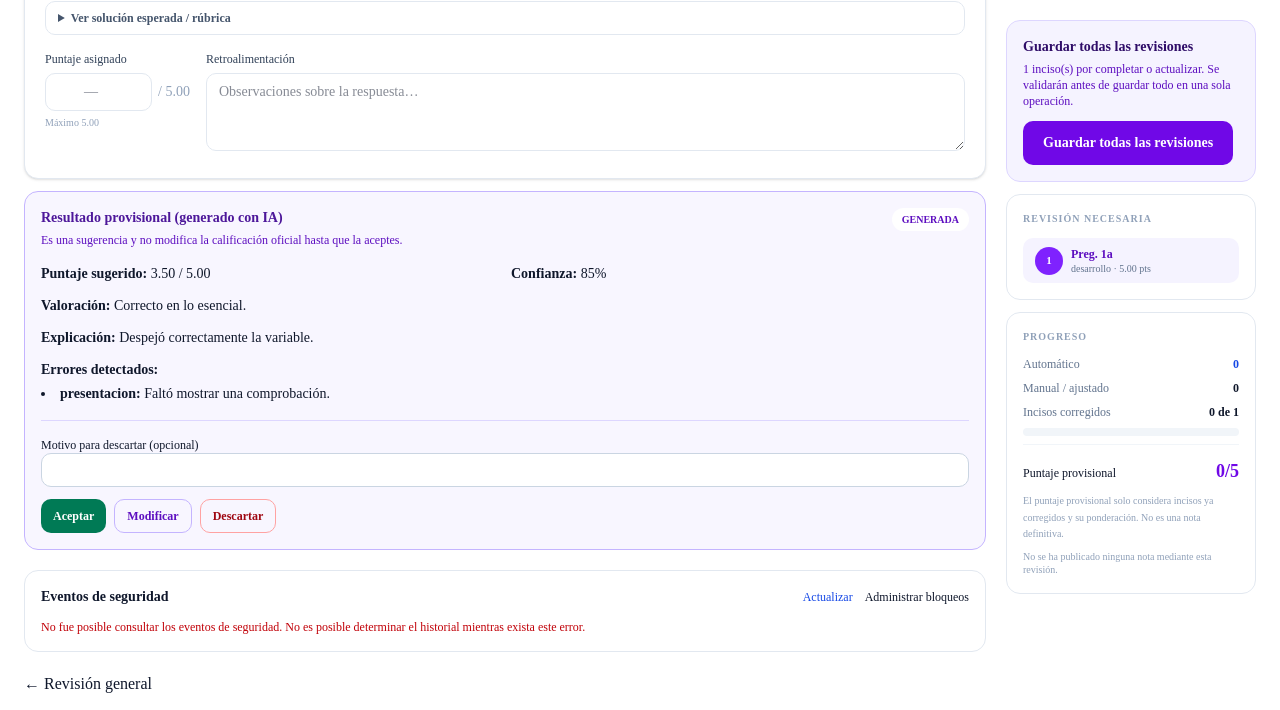
Test: RevisionEstudiante — propuestas de corrección IA › permite modificar todos los campos y aceptar la versión modificada
The width and height of the screenshot is (1280, 710).
Later steps or results of the test are not shown.
(page scrolled)
Click the button "Modificar". click: (153, 516)
box: [114,499,192,533]
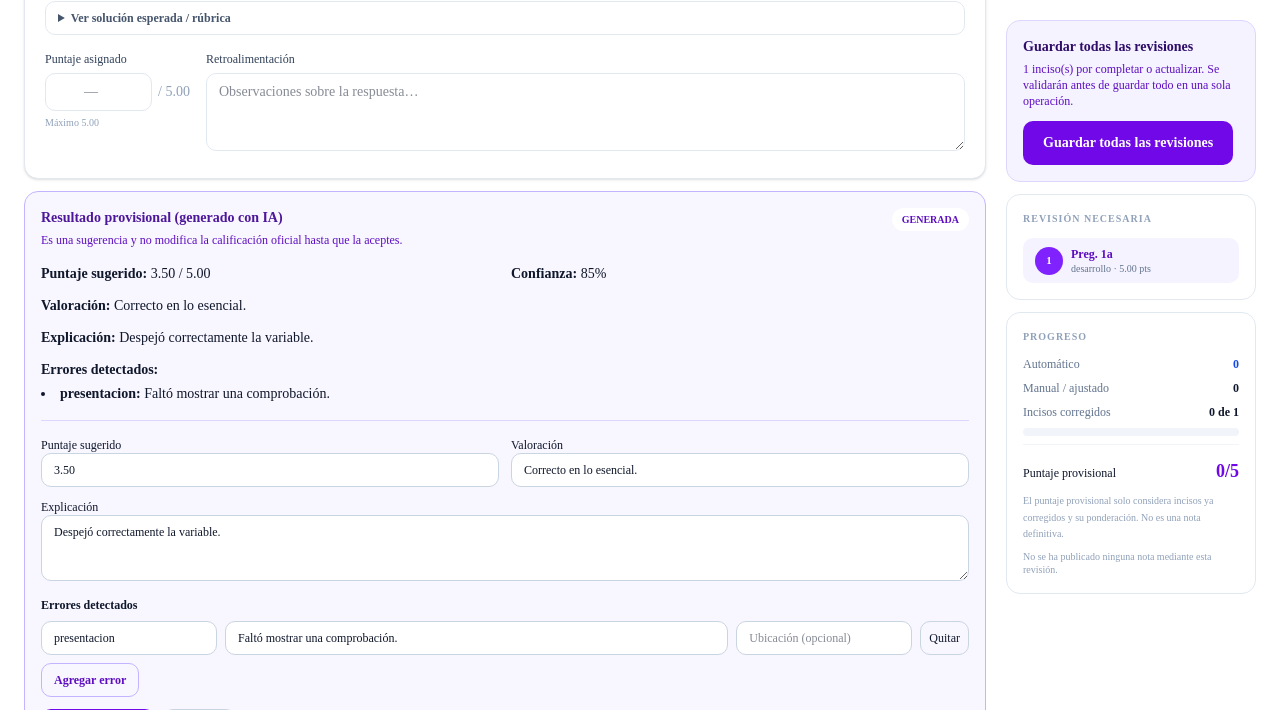
Replace the text in the number field labelled "Puntaje sugerido" with "4.25". click: (270, 470)
box: [41,453,499,487]
Replace the text in the field labelled "Valoración" with "Valoración docente". click: (740, 470)
box: [511,453,969,487]
Replace the text in the text box labelled "Explicación" with "Explicación revisada". click: (505, 548)
box: [41,515,969,581]
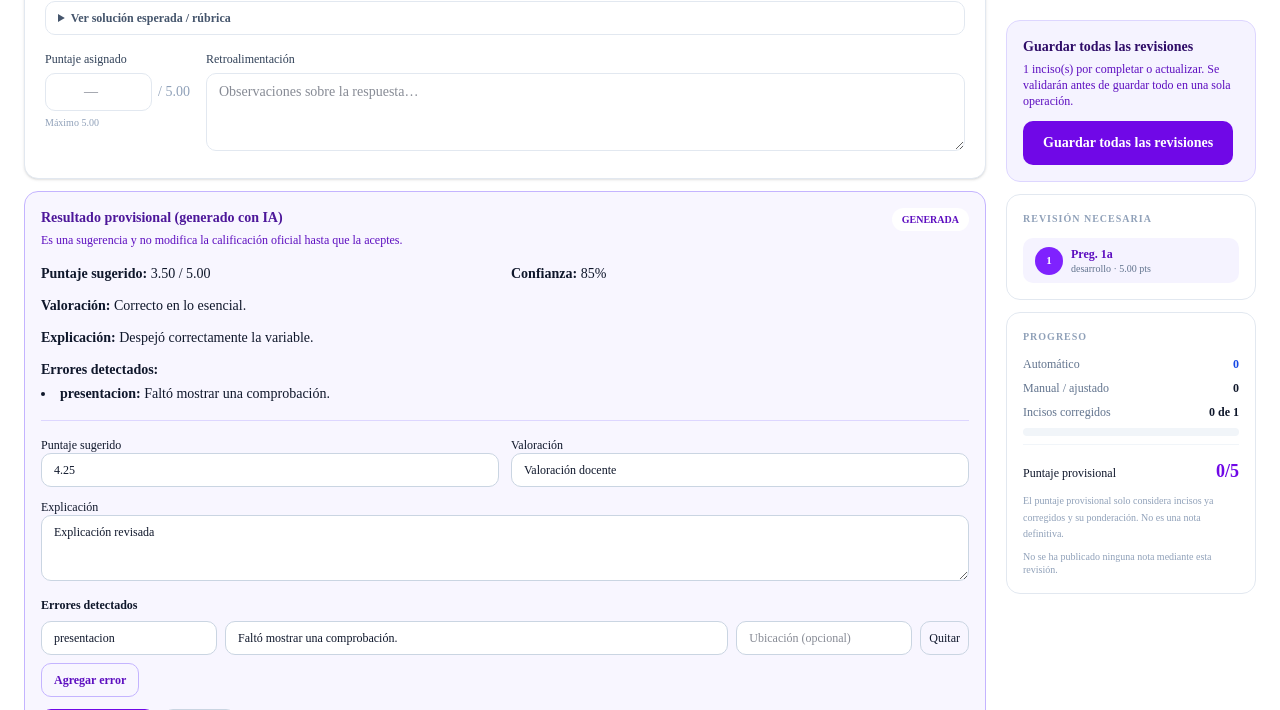
Replace the text in the field named "Tipo del error 1" with "procedimiento". click: (129, 638)
box: [41,621,217,655]
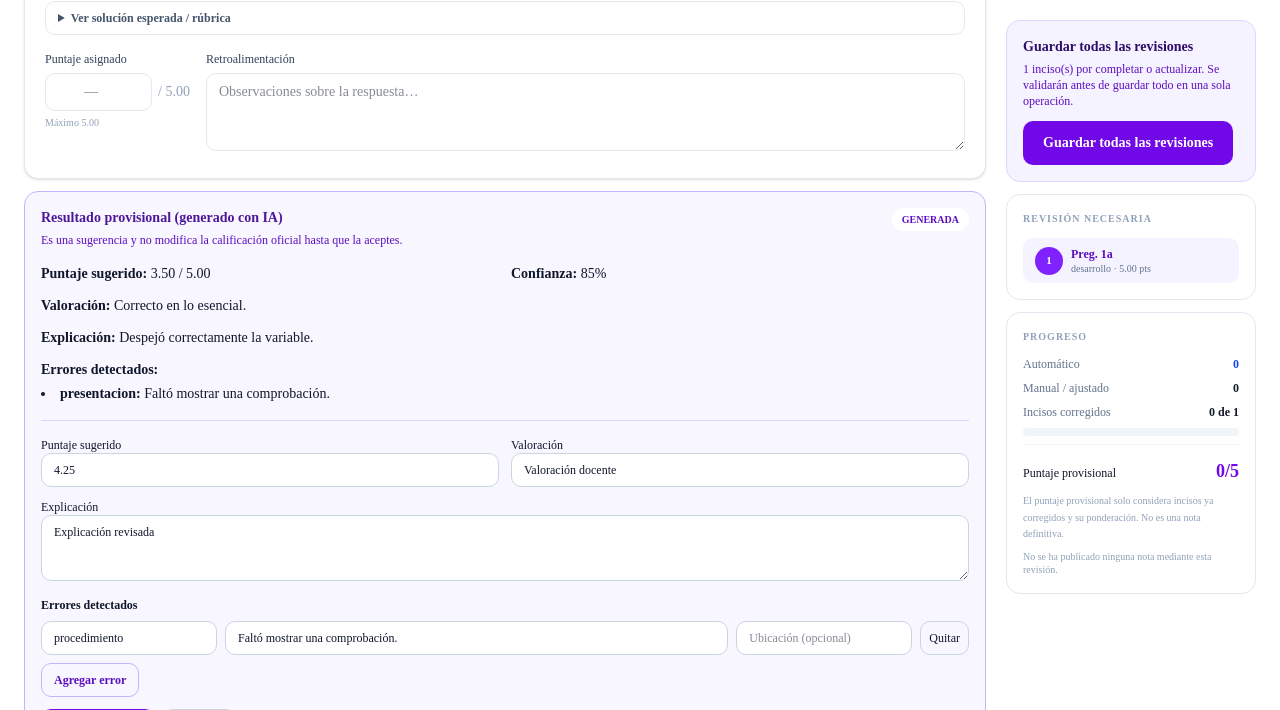
Replace the text in the field named "Descripción del error 1" with "No justificó el último paso.". click: (477, 638)
box: [225,621,728,655]
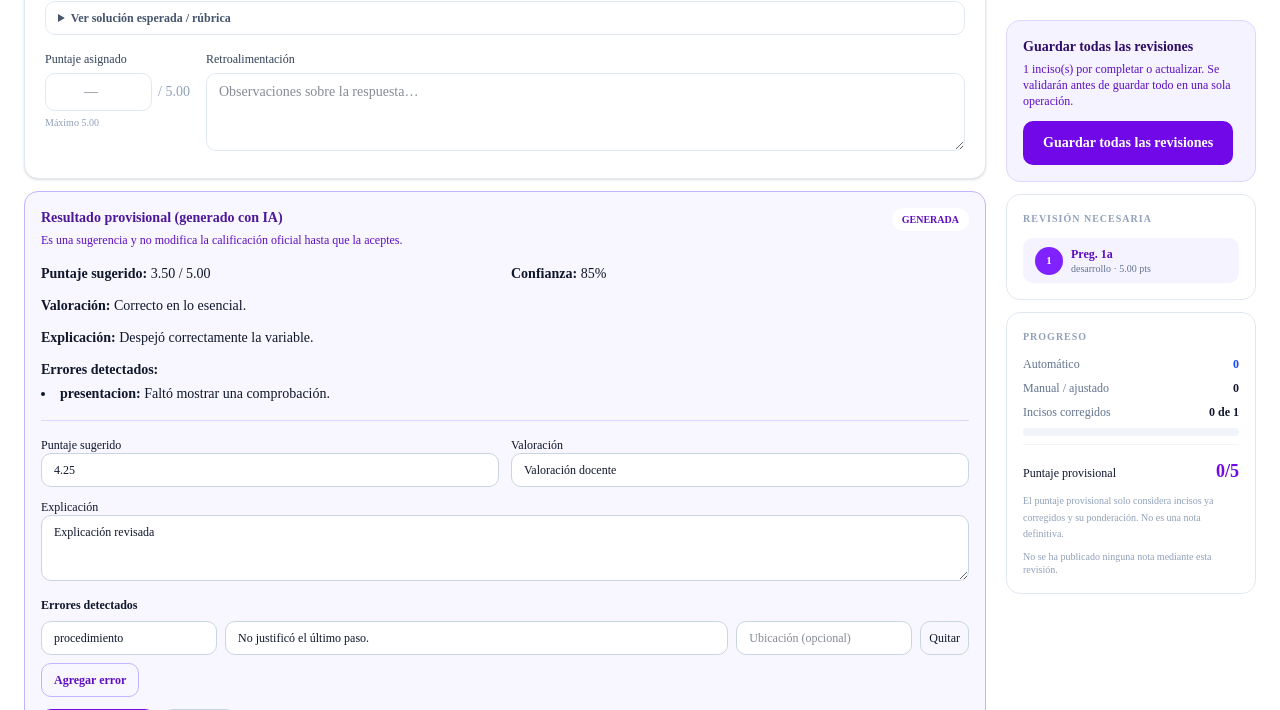
Type "Línea 2" into the field named "Ubicación del error 1". click: (824, 638)
box: [736,621,912,655]
(page scrolled)
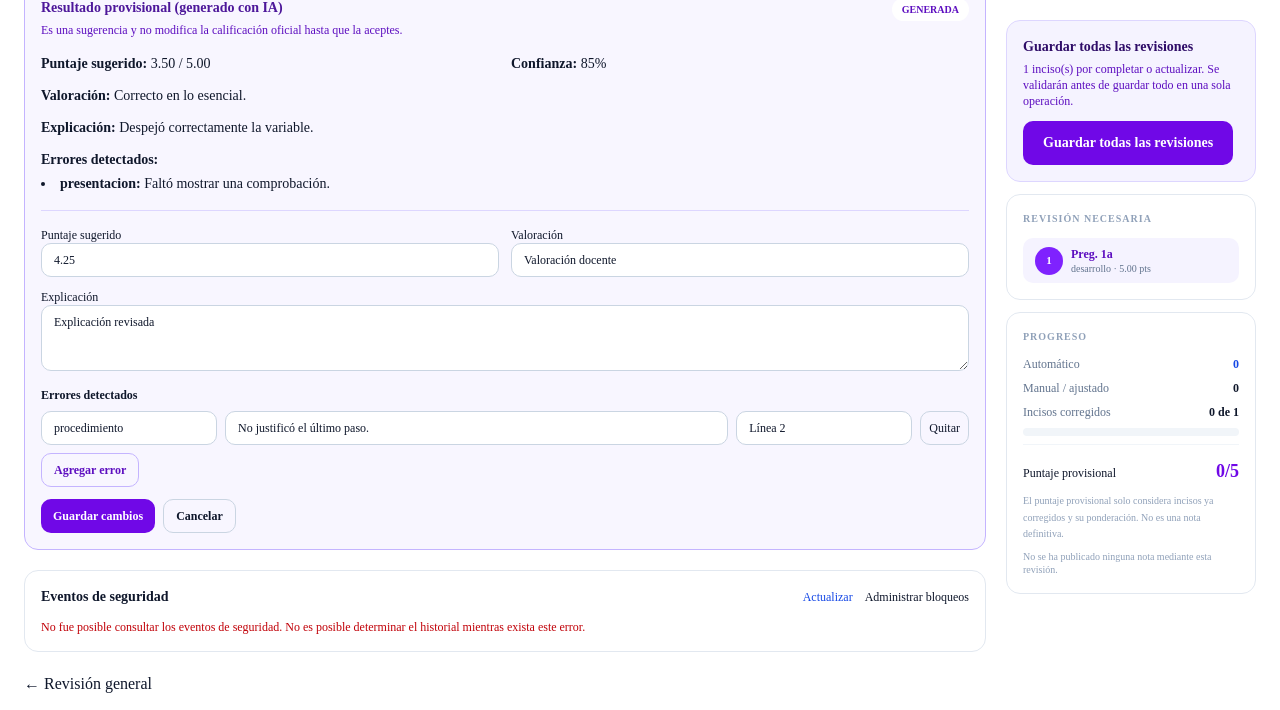
Click the button "Guardar cambios". click: (98, 516)
box: [41,499,155,533]
(page scrolled)
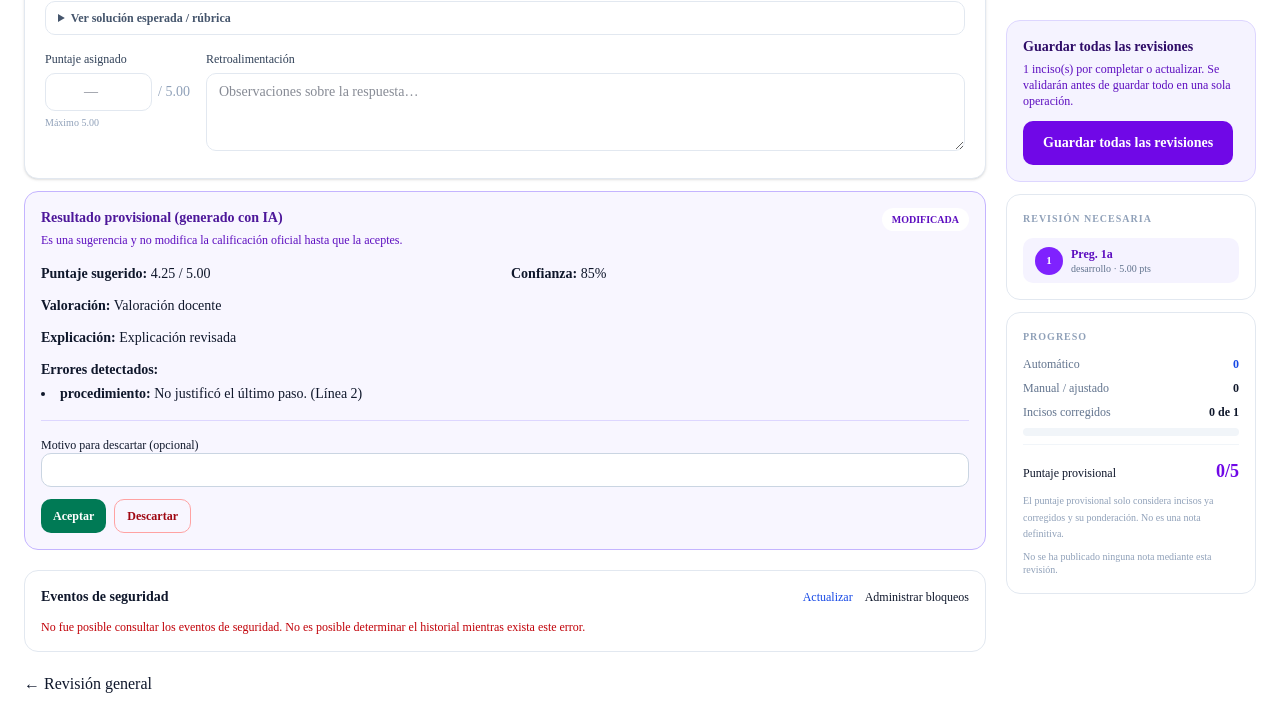
Check: the number field labelled "Puntaje asignado" is empty, box [45,73,152,111]
Check: the text "Valoración docente" is shown, box [114,298,221,313]
Check: the text "modificada" is shown, box [882,208,969,231]
